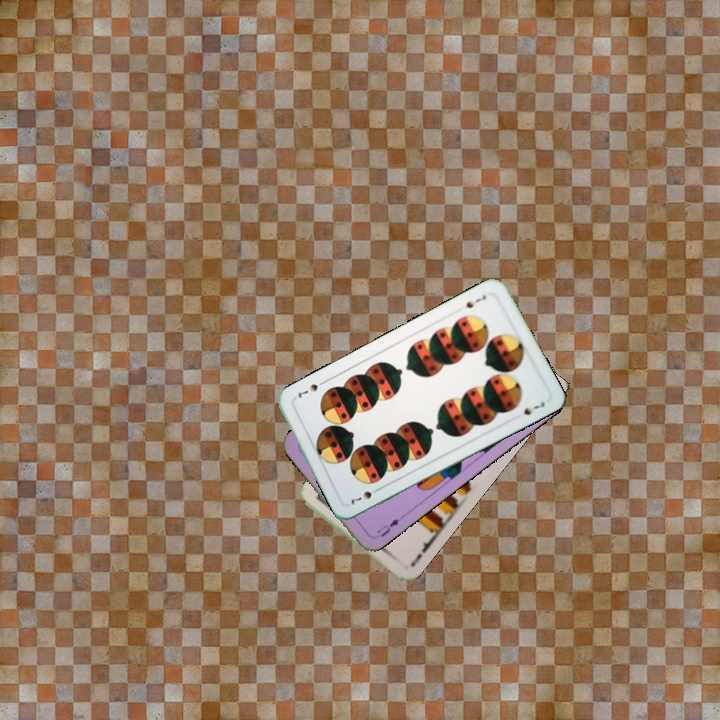E7: (406, 535, 436, 570)
EU: (370, 512, 405, 541)
S7: (347, 483, 383, 507), (462, 290, 489, 311)
